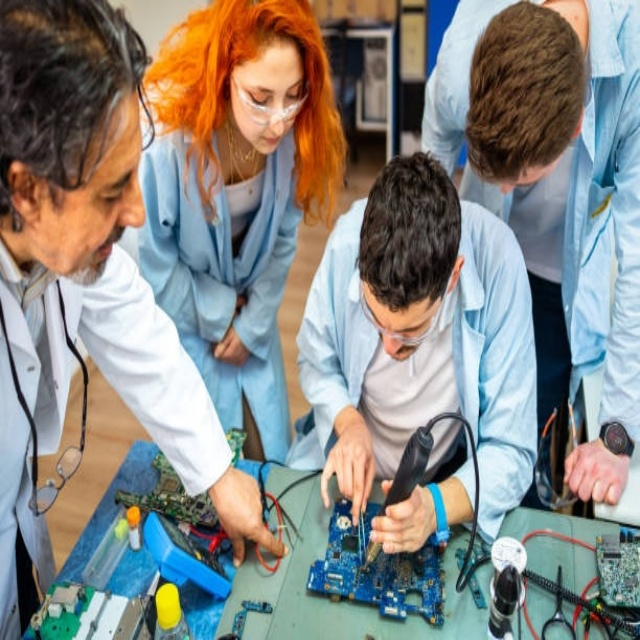Gafas: (359, 279, 451, 339), (230, 64, 312, 122)
Sin_gafas: (65, 146, 142, 213)
Sin_guantes: (209, 465, 288, 561), (321, 425, 378, 522), (368, 480, 439, 557), (564, 435, 632, 507), (213, 316, 252, 367)
Sin_mascara: (71, 226, 131, 285), (376, 339, 416, 372), (249, 129, 291, 158)
